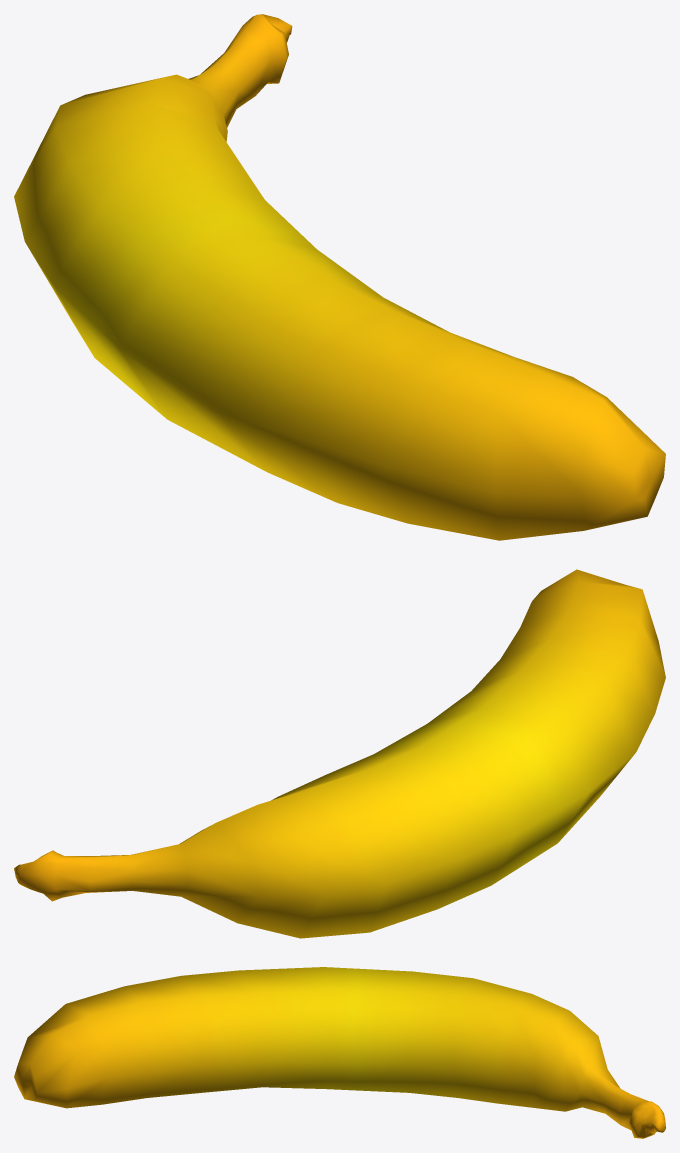
File: Banana.fbx
3 views of the same model, one above another, from view 1: azimuth 30°, elevation 25°; view 2: azimuth 150°, elevation 25°; view 3: azimuth 270°, elevation 25° (orthographic). The views are drawn at different scales.
Visible parts, largest first — view 1: Banana; view 2: Banana; view 3: Banana.
Part boxes in pixels (x1,y1,x2,y2): Banana: (14,14,665,540); Banana: (14,569,665,938); Banana: (14,967,665,1138).
Size of the model in its own units: 472 by 164 by 998.
